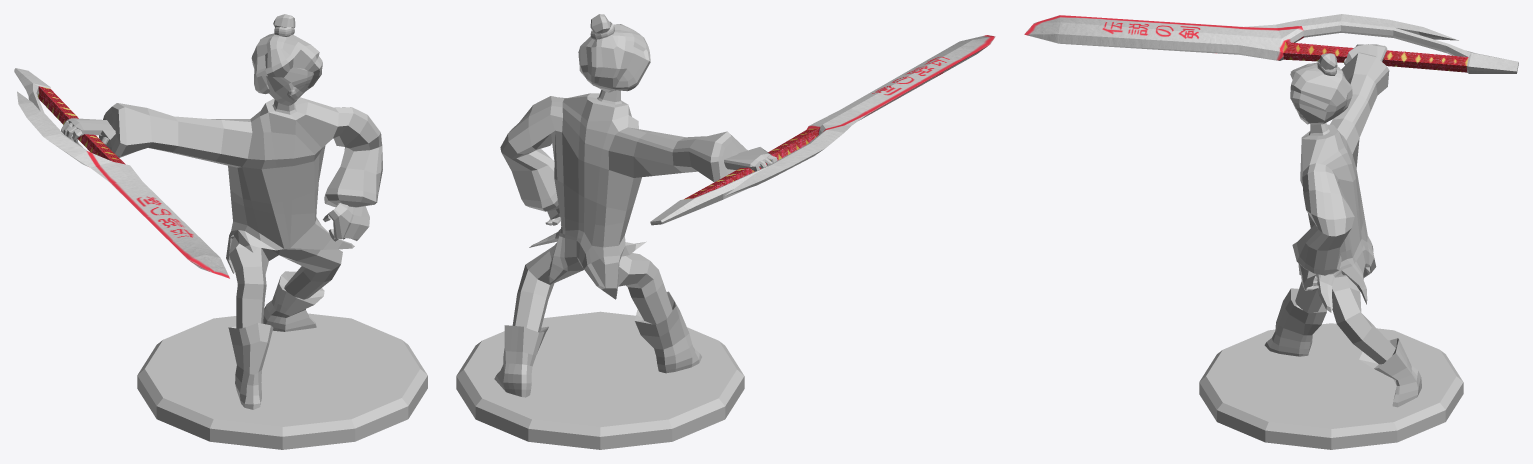
The model's file is Ryuuichi_Final.fbx.
3 views of the same model, side by side, from view 1: azimuth 30°, elevation 25°; view 2: azimuth 150°, elevation 25°; view 3: azimuth 270°, elevation 25° (orthographic). The views are drawn at different scales.
Visible parts, largest first — view 1: Ryuchi, Base, LOTTSS_Sword; view 2: Ryuchi, Base, LOTTSS_Sword; view 3: Ryuchi, Base, LOTTSS_Sword.
Boxes of the visible parts, box(x1,y1,x2,y2) form: Ryuchi: box(61, 14, 382, 409); Base: box(137, 313, 427, 449); LOTTSS_Sword: box(14, 68, 229, 278); Ryuchi: box(494, 14, 777, 397); Base: box(456, 311, 744, 449); LOTTSS_Sword: box(650, 35, 995, 225); Ryuchi: box(1264, 44, 1421, 407); Base: box(1199, 323, 1463, 449); LOTTSS_Sword: box(1024, 14, 1518, 73).
Size of the model in its own units: 294 by 285 by 375.
